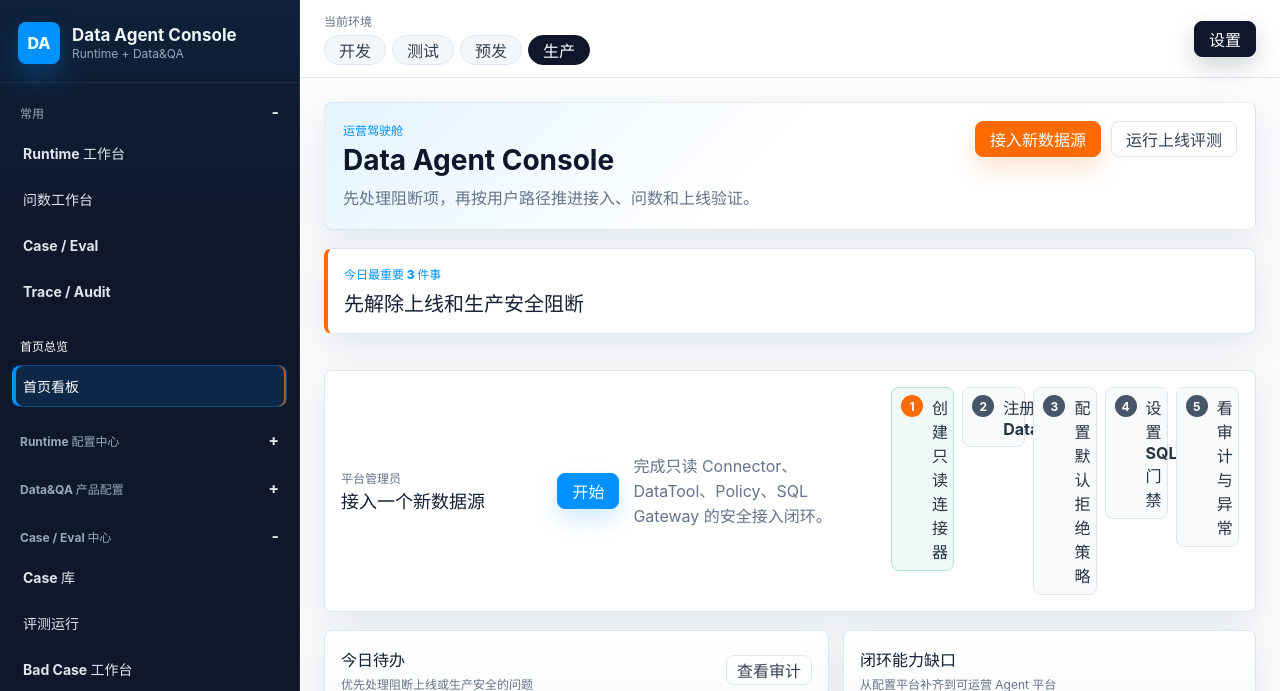
Scenario: Data Agent Console MVP › renders dashboard and navigates to Runtime pages
Check: the heading "Data Agent Console" below "运营驾驶舱" is shown, box [343, 143, 614, 177]
Click the button named "Runtime 配置中心+": x=70, y=441 [12, 425, 287, 455]
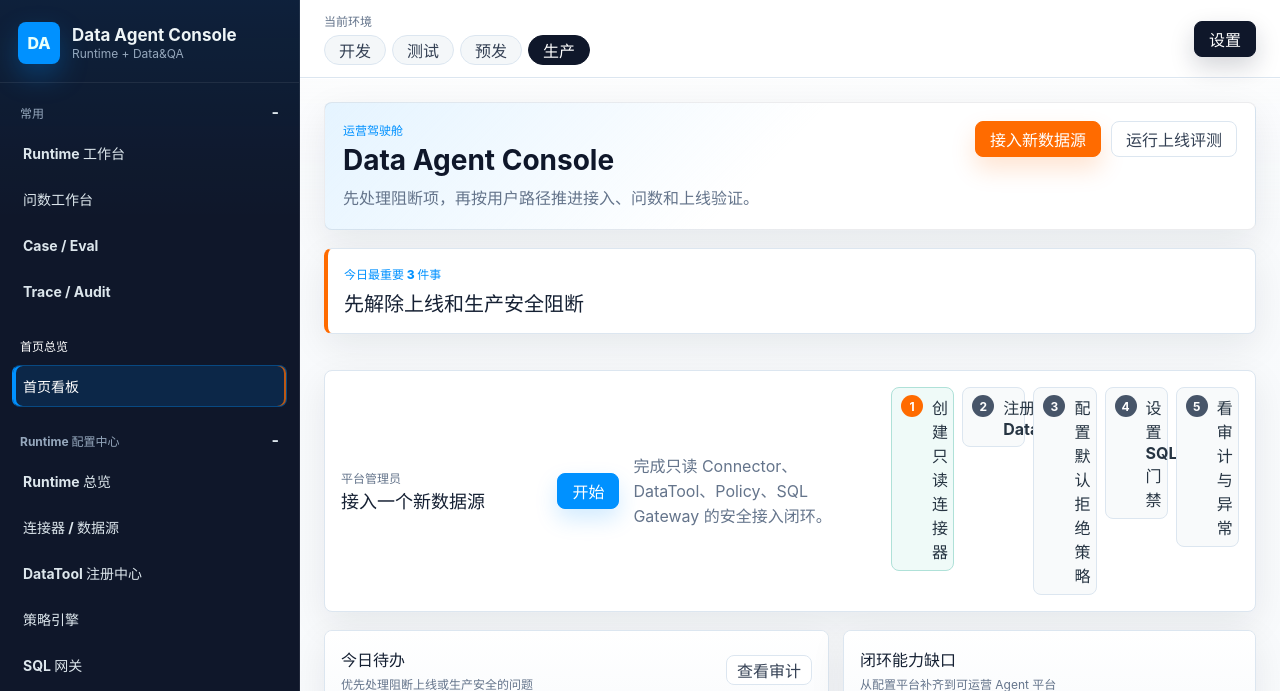
Click the button "SQL 网关": x=53, y=666 [12, 644, 287, 686]
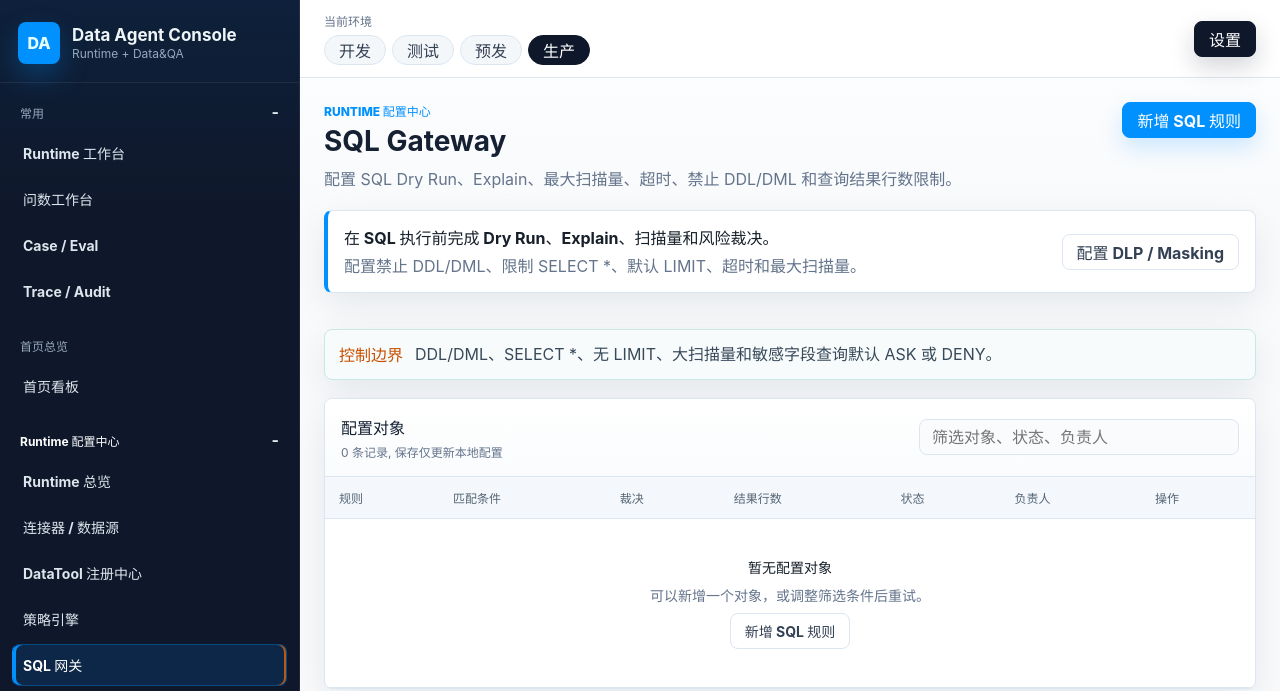
Check: the heading "SQL Gateway" is shown, box [324, 124, 506, 158]
Check: the text "配置 SQL Dry Run、Explain、最大扫描量、超时、禁止 DDL/DML 和查询结果行数限制。" is shown, box [324, 167, 961, 192]
